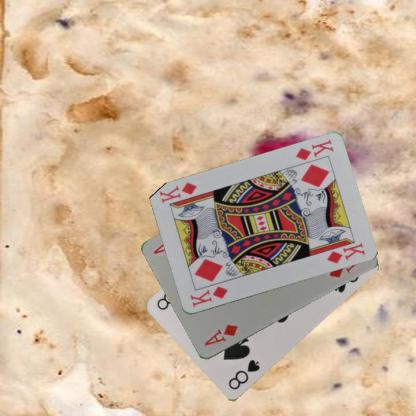8s: (225, 357, 261, 392)
Ad: (202, 321, 239, 347)
Kd: (293, 137, 335, 162), (187, 284, 229, 308)
